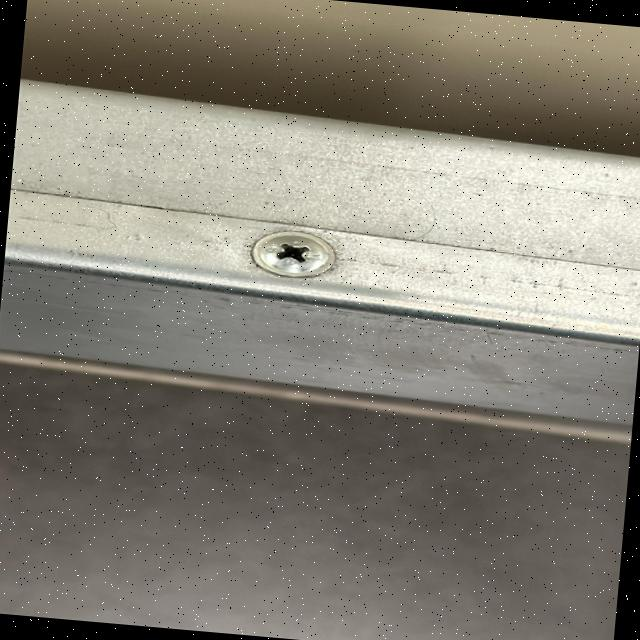Phillips: (240, 232, 354, 280)
